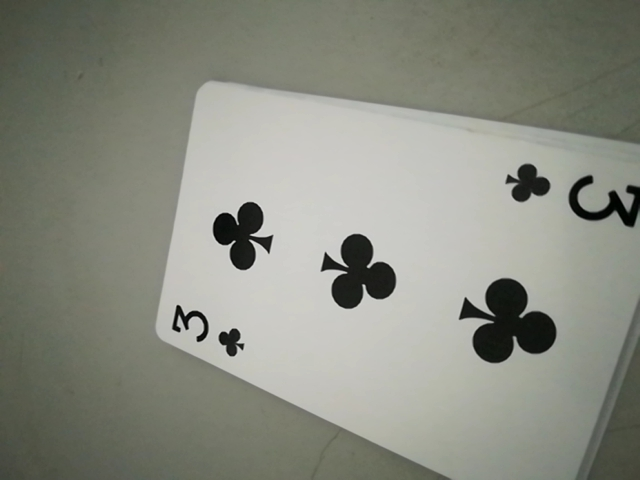mh 3: (499, 158, 640, 233), (165, 298, 254, 362)
